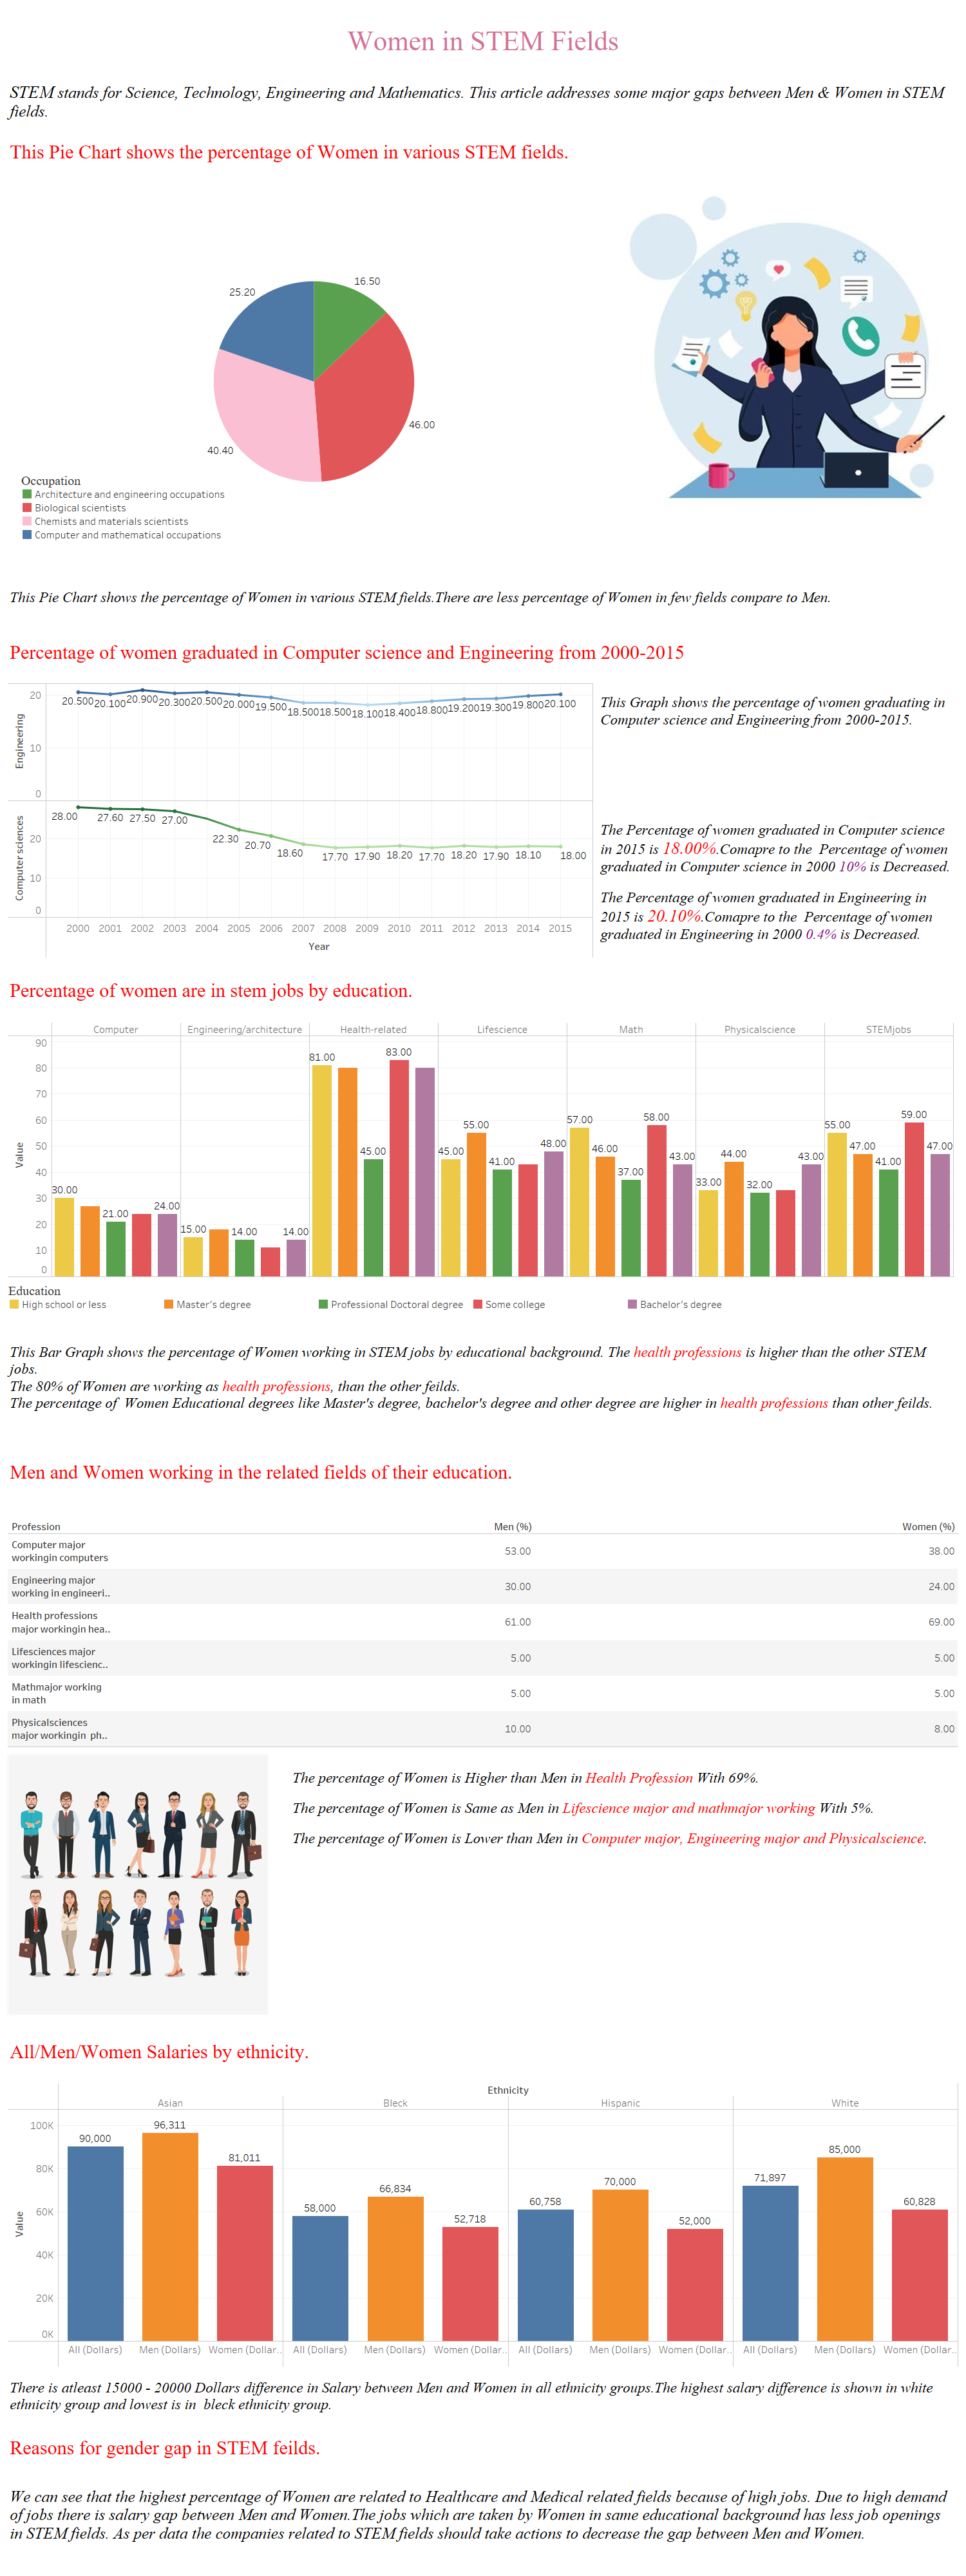

The dashboard page shown, as its layout file describes it:
{"tool":"tableau","page":{"name":"Project Article","canvas":[1500,4000],"ordinal":0},"visuals":[{"type":"text","box":[8,8,1484,110.8]},{"type":"text","box":[8,118.8,1484,77.6]},{"type":"text","box":[8,196.4,1484,80.6]},{"type":"worksheet","title":"Pie Chart","mark":"Pie","box":[8,276.9,959,631.2]},{"type":"image","param":"Image/the-girl-does-many-tasks-at-the-same-time-multitasking-vector.jpg","box":[967,276.9,525,631.2]},{"type":"legend","title":"Pie Chart","param":"[federated.1b5pask1vqmhv60zp0syd1vi4sty].[none:Occupation:nk]","box":[32,733,325,131]},{"type":"text","box":[8,908.1,1484,60.9]},{"type":"text","box":[8,969,1484,88.3]},{"type":"worksheet","title":"Graph","mark":"Automatic","rows":["Engineering","Computer sciences"],"cols":["Year"],"box":[8,1057.3,917,434.9]},{"type":"text","box":[925,1057.3,567,434.9]},{"type":"text","box":[8,1492.2,1484,92.3]},{"type":"worksheet","title":"Bar Graph","mark":"Automatic","cols":["F1"],"box":[8,1584.5,1484,402.5]},{"type":"legend","title":"Bar Graph","param":"[federated.0zsceq507v4oe01efcxh60njhjoo].[:Measure Names]","box":[8,1987,1484,57]},{"type":"text","box":[8,2044,1484,192]},{"type":"text","box":[8,2236,1484,101]},{"type":"worksheet","title":"Cross Tab","mark":"Text","rows":["Profession"],"box":[8,2337,1484,380]},{"type":"text","box":[451,2704,1025,231]},{"type":"image","param":"Image/ddd1293f690598af3cf4f57736946761.jpg","box":[11,2723,441,406]},{"type":"text","box":[8,3141,1484,90]},{"type":"worksheet","title":"Salaries","mark":"Automatic","cols":["Ethnicity"],"box":[8,3231,1484,449]},{"type":"text","box":[8,3680,1484,82]},{"type":"text","box":[8,3762,1484,79]},{"type":"text","box":[8,3841,1484,151]}]}

Visuals, with their boxes in screenshot pixels (x1, y1, x2, y2), scaled from the page's 1500x4000 canvas onto the 966x2576 screenshot:
text: {"x1": 5, "y1": 5, "x2": 961, "y2": 77}
text: {"x1": 5, "y1": 77, "x2": 961, "y2": 126}
text: {"x1": 5, "y1": 126, "x2": 961, "y2": 178}
"Pie Chart" worksheet (Pie marks): {"x1": 5, "y1": 178, "x2": 623, "y2": 585}
image: {"x1": 623, "y1": 178, "x2": 961, "y2": 585}
"Pie Chart" legend: {"x1": 21, "y1": 472, "x2": 230, "y2": 556}
text: {"x1": 5, "y1": 585, "x2": 961, "y2": 624}
text: {"x1": 5, "y1": 624, "x2": 961, "y2": 681}
"Graph" worksheet: {"x1": 5, "y1": 681, "x2": 596, "y2": 961}
text: {"x1": 596, "y1": 681, "x2": 961, "y2": 961}
text: {"x1": 5, "y1": 961, "x2": 961, "y2": 1020}
"Bar Graph" worksheet: {"x1": 5, "y1": 1020, "x2": 961, "y2": 1280}
"Bar Graph" legend: {"x1": 5, "y1": 1280, "x2": 961, "y2": 1316}
text: {"x1": 5, "y1": 1316, "x2": 961, "y2": 1440}
text: {"x1": 5, "y1": 1440, "x2": 961, "y2": 1505}
"Cross Tab" worksheet (Text marks): {"x1": 5, "y1": 1505, "x2": 961, "y2": 1750}
text: {"x1": 290, "y1": 1741, "x2": 951, "y2": 1890}
image: {"x1": 7, "y1": 1754, "x2": 291, "y2": 2015}
text: {"x1": 5, "y1": 2023, "x2": 961, "y2": 2081}
"Salaries" worksheet: {"x1": 5, "y1": 2081, "x2": 961, "y2": 2370}
text: {"x1": 5, "y1": 2370, "x2": 961, "y2": 2423}
text: {"x1": 5, "y1": 2423, "x2": 961, "y2": 2474}
text: {"x1": 5, "y1": 2474, "x2": 961, "y2": 2571}
